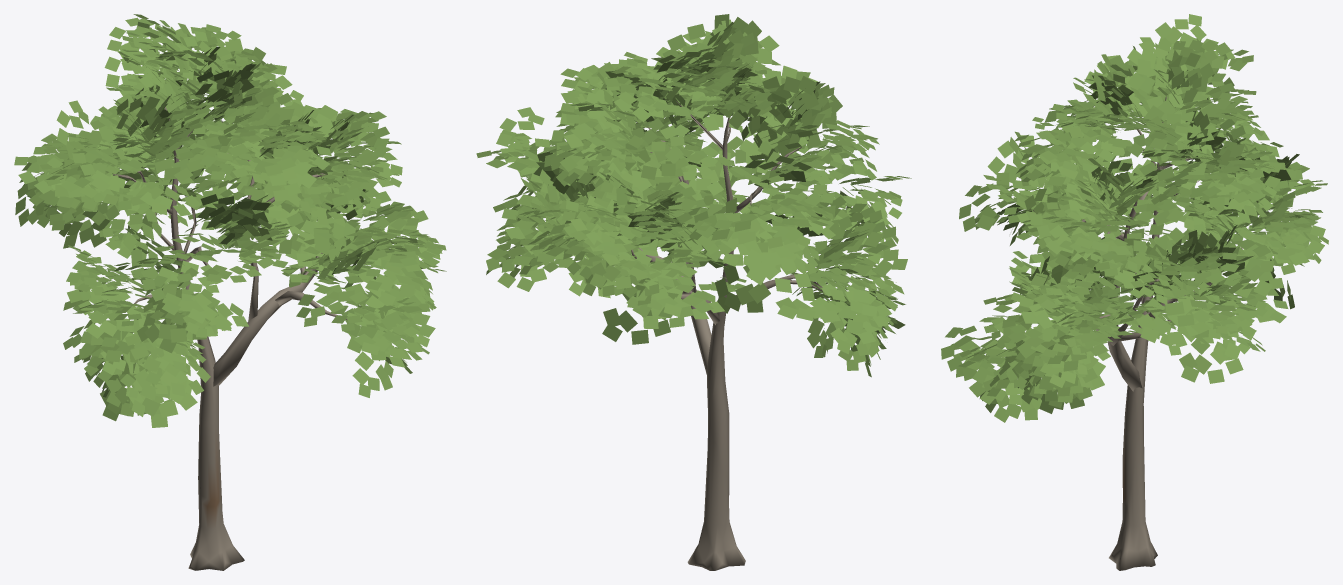
3 views of the same model, side by side, from view 1: azimuth 30°, elevation 25°; view 2: azimuth 150°, elevation 25°; view 3: azimuth 270°, elevation 25° (orthographic). The views are drawn at different scales.
Parts seen in each view (by area): view 1: V20_LOD3_Foliage, V20_LOD3_Body; view 2: V20_LOD3_Foliage, V20_LOD3_Body; view 3: V20_LOD3_Foliage, V20_LOD3_Body.
Part boxes in pixels (x1=…): V20_LOD3_Foliage: x1=14, y1=14, x2=446, y2=427; V20_LOD3_Body: x1=113, y1=95, x2=366, y2=570; V20_LOD3_Foliage: x1=476, y1=14, x2=911, y2=377; V20_LOD3_Body: x1=631, y1=101, x2=822, y2=570; V20_LOD3_Foliage: x1=941, y1=14, x2=1328, y2=422; V20_LOD3_Body: x1=1033, y1=96, x2=1242, y2=570.
Size of the model in its own units: 9.08 by 13.04 by 8.74.
Materials: 2 (1 with a texture image).
